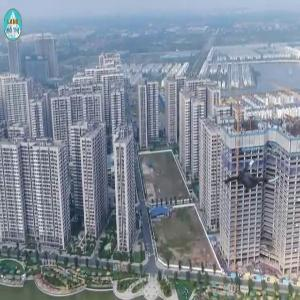drone: (228, 152, 280, 204)
